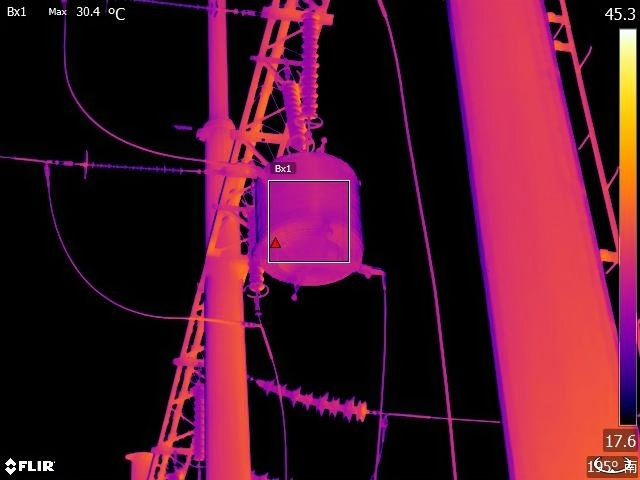clamp: (29, 151, 60, 181)
insulator: (255, 372, 373, 426), (71, 144, 200, 186), (296, 9, 327, 128), (246, 199, 269, 300), (278, 72, 308, 146), (189, 371, 208, 464)
wave trap: (254, 148, 379, 295)
